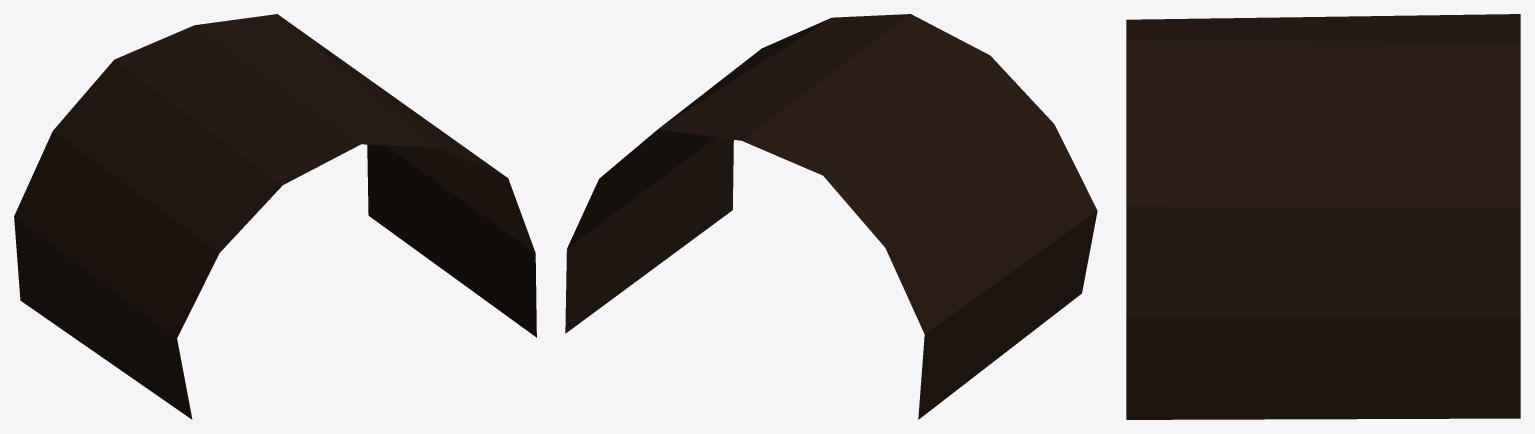
The model's file is SM_MP_Rock_Arch.fbx.
3 views of the same model, side by side, from view 1: azimuth 30°, elevation 25°; view 2: azimuth 150°, elevation 25°; view 3: azimuth 270°, elevation 25° (orthographic). The views are drawn at different scales.
Visible parts, largest first — view 1: SM_MP_Rock_Arch; view 2: SM_MP_Rock_Arch; view 3: SM_MP_Rock_Arch.
Part boxes in pixels (box(x1,y1,x2,y2)): SM_MP_Rock_Arch: box(14, 14, 536, 419); SM_MP_Rock_Arch: box(565, 14, 1097, 419); SM_MP_Rock_Arch: box(1126, 14, 1520, 419).
Bounding box in the file's own units: 498 × 400 × 313.
1 material, 1 textured.
